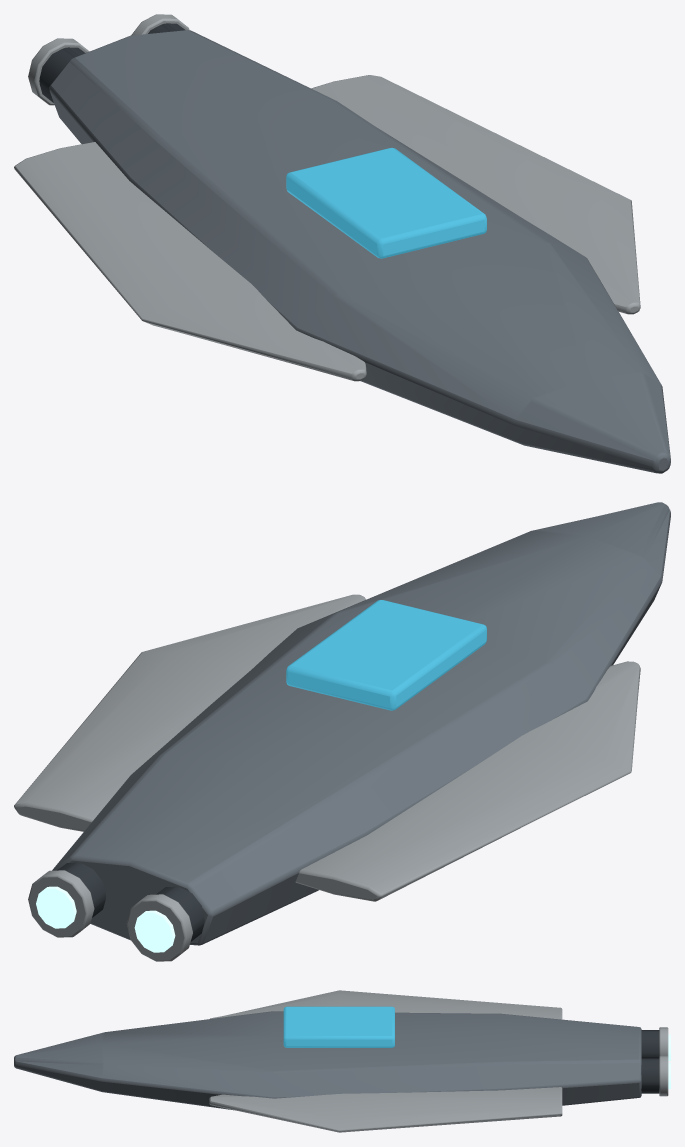
The model's file is QW_EscortSpear_LOD2.fbx.
3 renders of one model, top to bottom at view 1: azimuth 30°, elevation 25°; view 2: azimuth 150°, elevation 25°; view 3: azimuth 270°, elevation 25°, orthographic. The views are drawn at different scales.
Parts seen in each view (by area): view 1: QW_EscortSpear_LOD2; view 2: QW_EscortSpear_LOD2; view 3: QW_EscortSpear_LOD2.
Part boxes in pixels (x1,y1,x2,y2): QW_EscortSpear_LOD2: (14, 14, 670, 473); QW_EscortSpear_LOD2: (14, 502, 670, 961); QW_EscortSpear_LOD2: (14, 990, 670, 1132).
Size of the model in its own units: 7.16 by 1.68 by 14.13.
